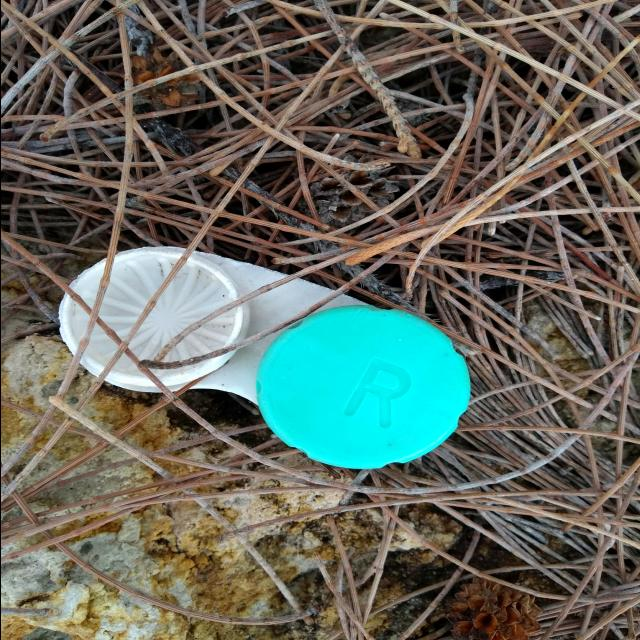Other plastic bottle: (58, 247, 469, 469)
